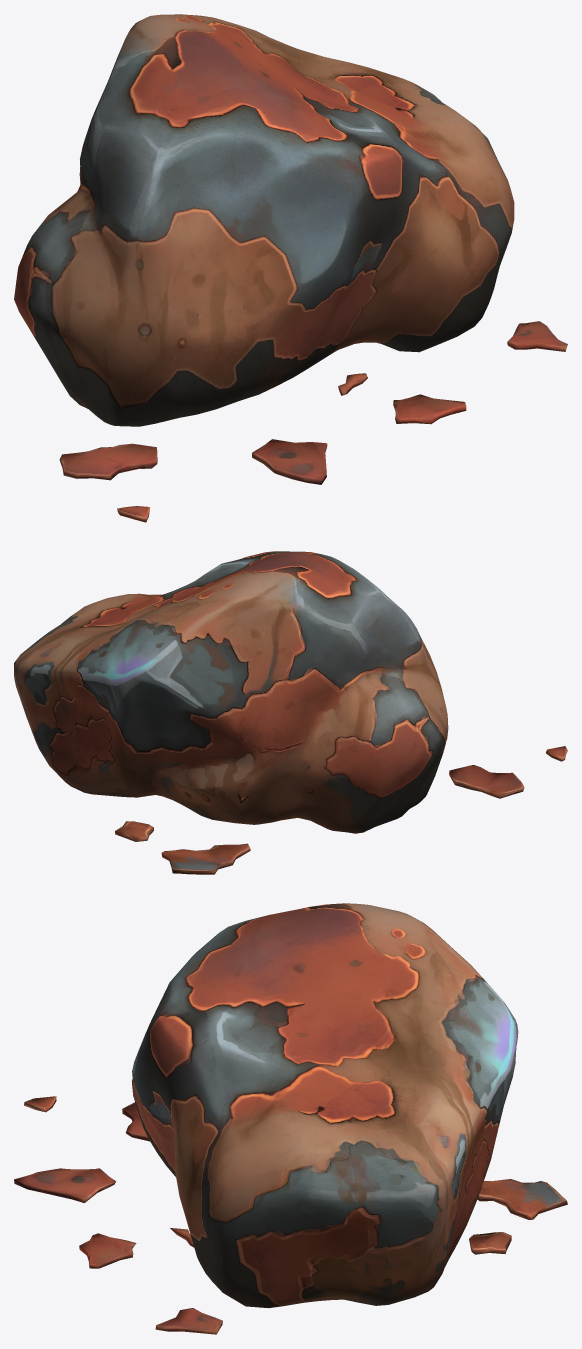
The picture shows the model from 3 angles, top to bottom: view 1: azimuth 30°, elevation 25°; view 2: azimuth 150°, elevation 25°; view 3: azimuth 270°, elevation 25°; orthographic projection. The views are drawn at different scales.
Bounding box in the file's own units: 2 × 1.17 × 1.99.
1 material, 1 textured.
